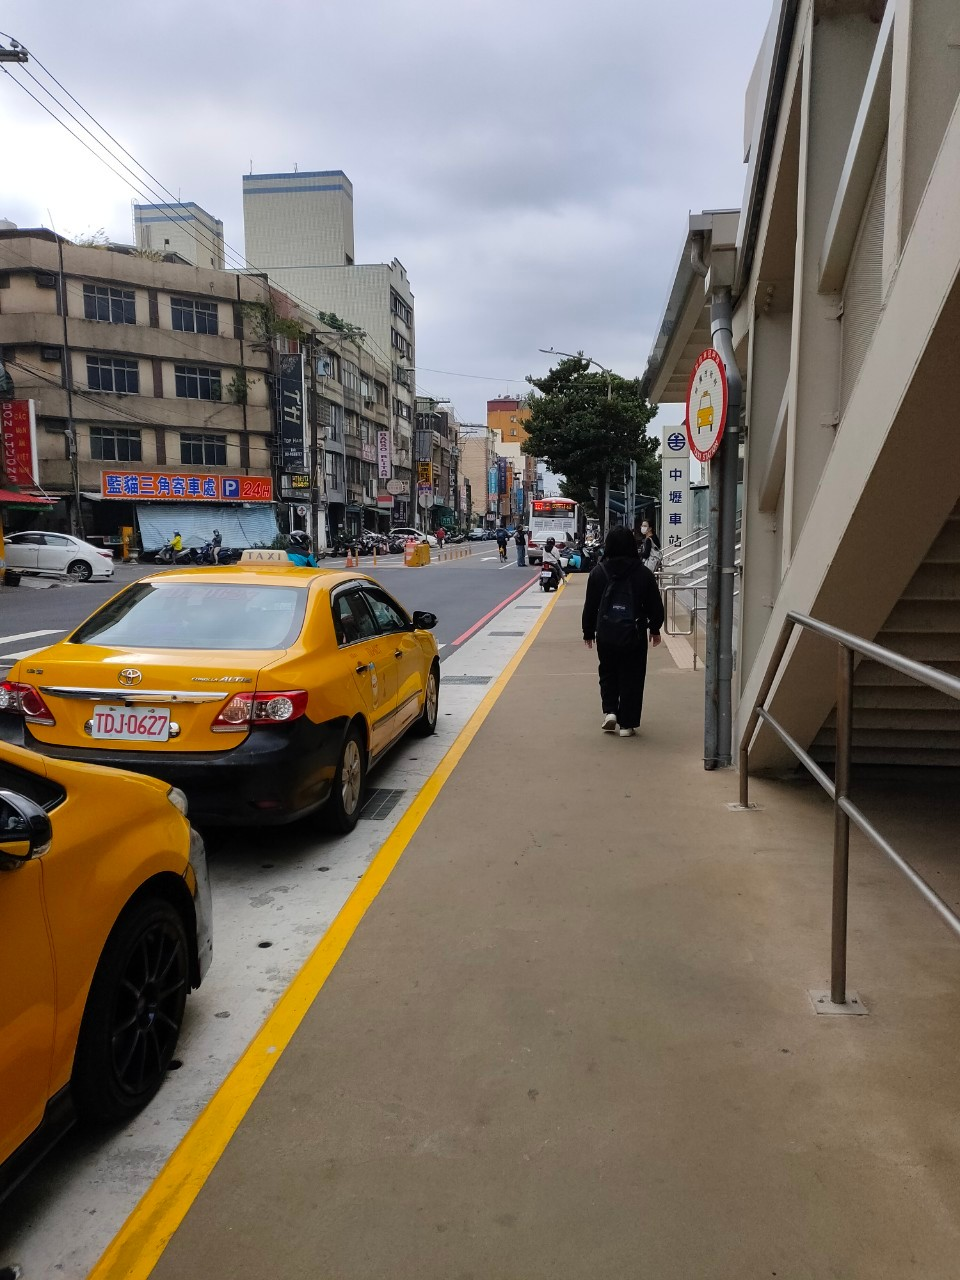people: (576, 529, 672, 753), (538, 535, 566, 594)
